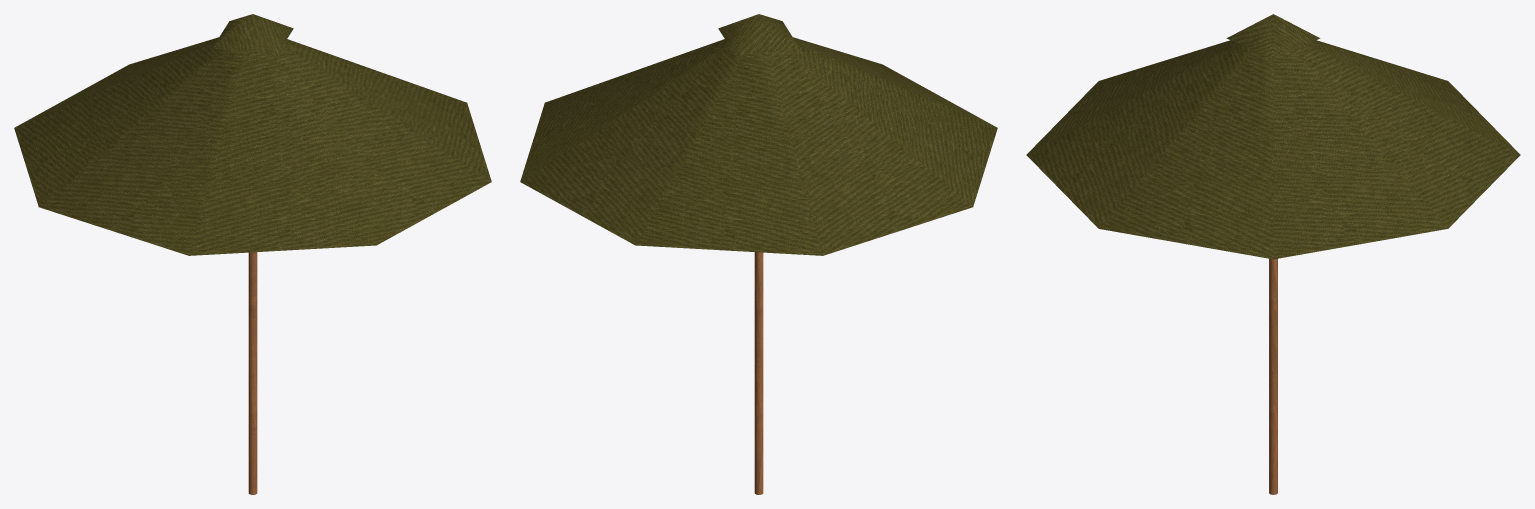
Rendered from Pool_umbrella.fbx.
The picture shows the model from 3 angles, left to right: view 1: azimuth 30°, elevation 25°; view 2: azimuth 150°, elevation 25°; view 3: azimuth 270°, elevation 25°; orthographic projection.
Parts seen in each view (by area): view 1: Pool_Table_Umbrella; view 2: Pool_Table_Umbrella; view 3: Pool_Table_Umbrella.
Part boxes in pixels (bbox=[...]): Pool_Table_Umbrella: bbox=[14, 14, 491, 494]; Pool_Table_Umbrella: bbox=[520, 14, 997, 494]; Pool_Table_Umbrella: bbox=[1026, 14, 1520, 494].
Bounding box in the file's own units: 3737 × 3994 × 3737.
1 material, 1 textured.
